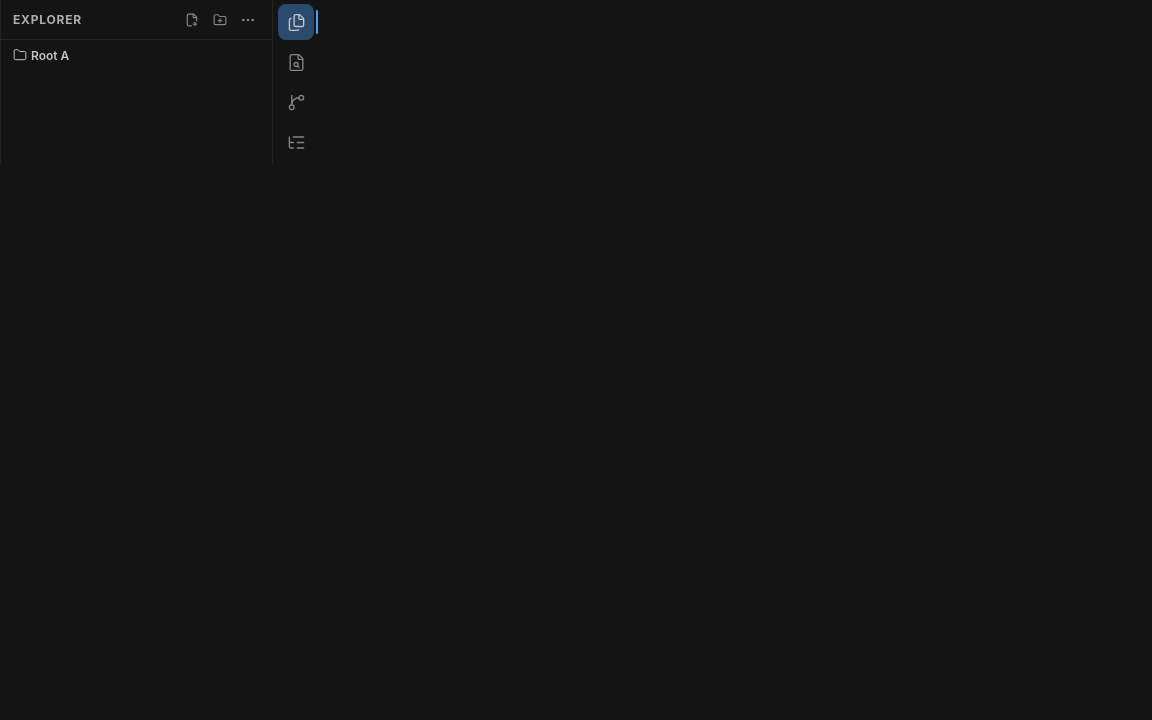
it: RightSidebar Explorer folder lifecycle › closes instead of retargeting when another empty folder is selected
Click the button named "More Explorer actions".
click(248, 20)  # box x1=236 y1=8 x2=260 y2=32
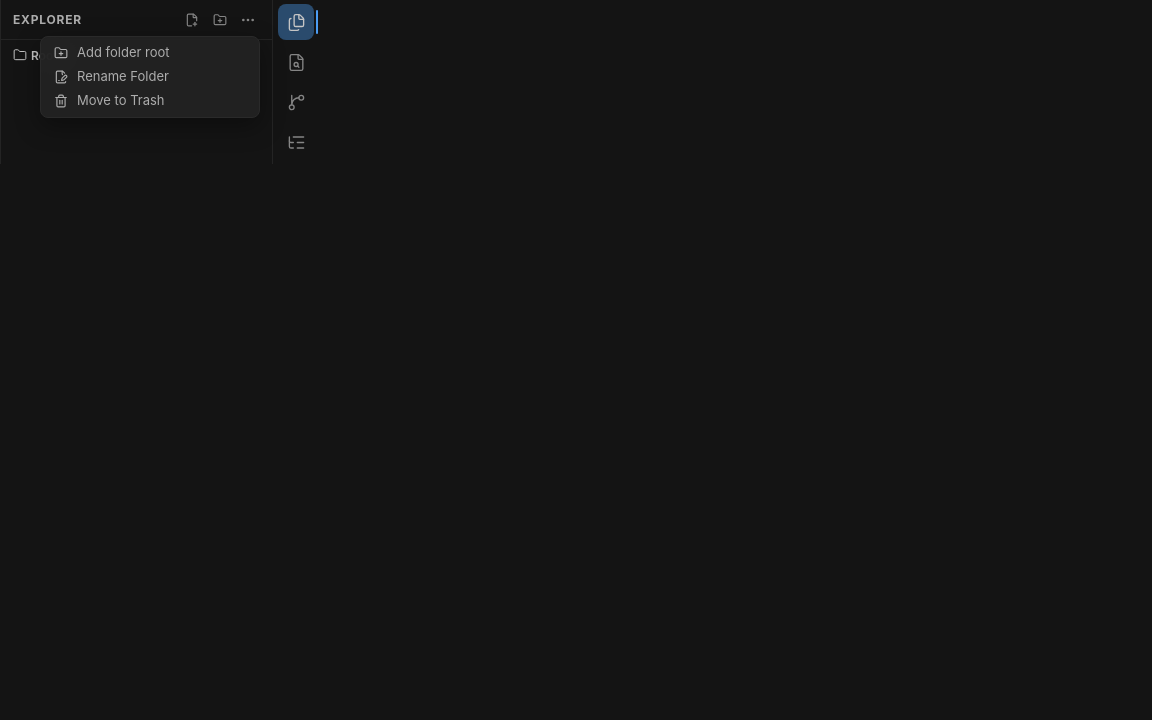
Click the menu item "Rename Folder".
click(150, 76)  # box x1=45 y1=64 x2=255 y2=88
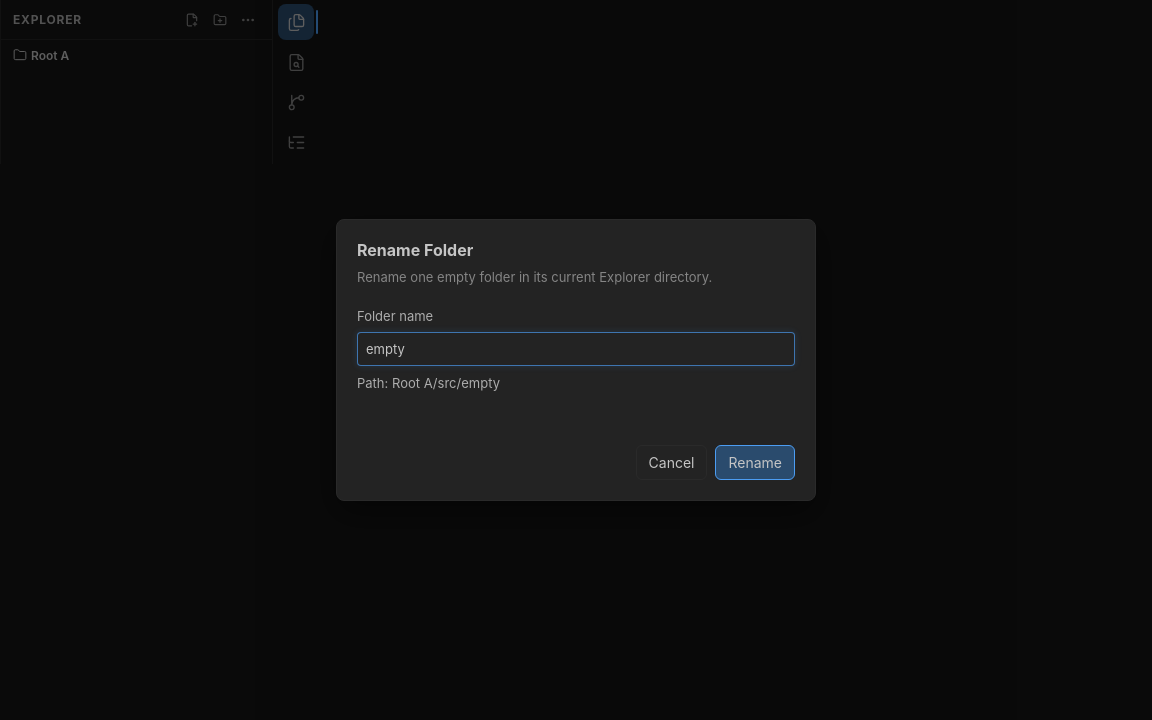
Expected: the field labelled "Folder name" is shown, x1=357 y1=332 x2=795 y2=366
